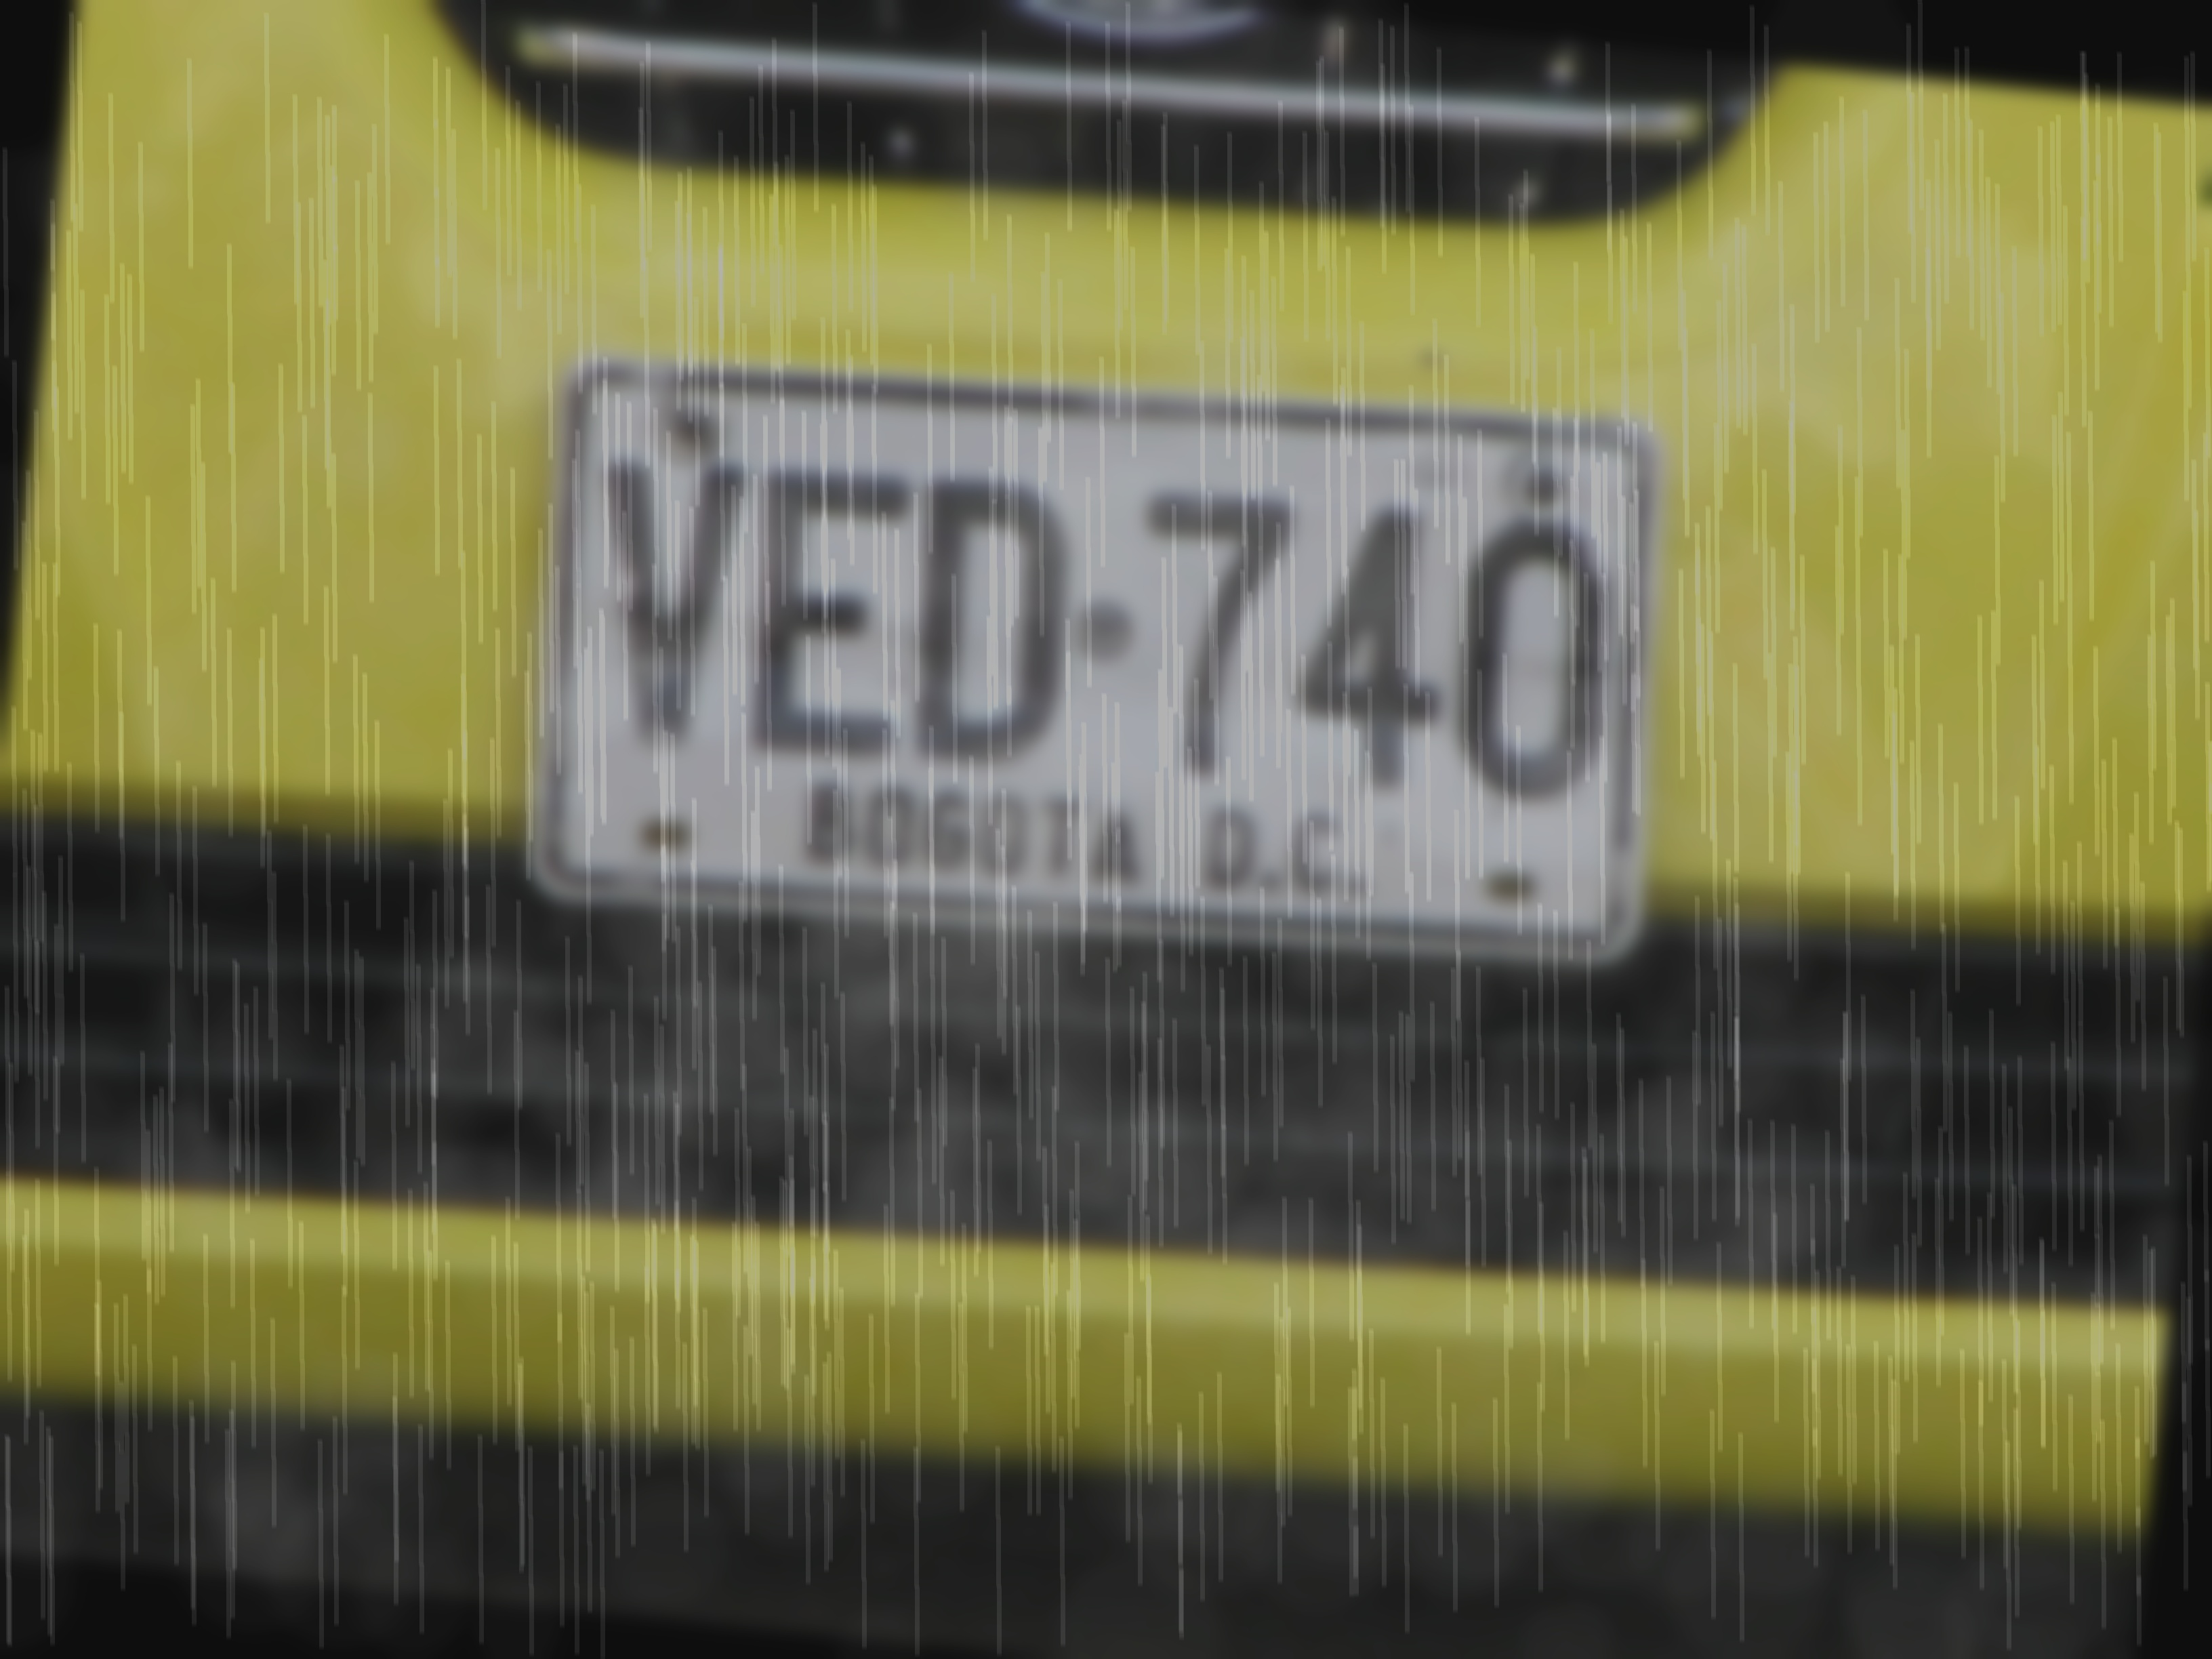placas: (490, 295, 1705, 1015)
